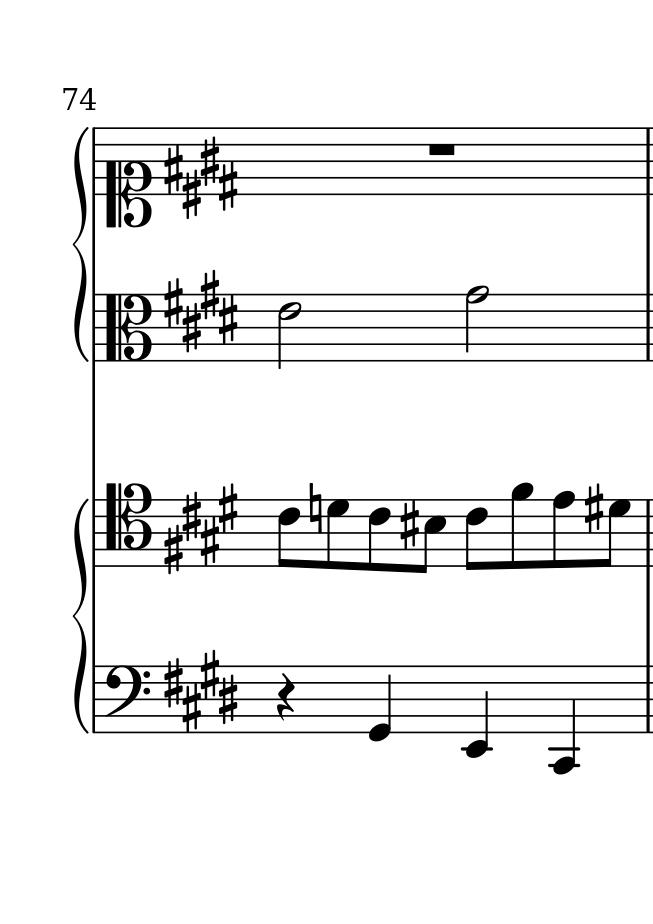2_6: (277, 294, 300, 370)
2_8: (464, 284, 489, 361)
4: (79, 86, 96, 113)
4_-2: (463, 664, 490, 759)
4_-4: (550, 662, 579, 773)
4_0: (368, 664, 394, 745)
7: (62, 84, 78, 112)
8_5: (416, 498, 448, 574)
8_6: (464, 497, 489, 573), (367, 497, 391, 575), (277, 498, 301, 570)
8_7: (599, 498, 631, 568), (325, 498, 350, 570)
8_8: (551, 490, 576, 571)
8_9: (510, 482, 534, 570)
Brace: (71, 496, 89, 735), (73, 124, 90, 362)
Cclef: (102, 292, 152, 363)
E_S: (159, 484, 241, 572), (160, 133, 240, 221), (161, 648, 241, 733), (165, 266, 239, 354)
Fclef: (103, 663, 150, 734)
Natural: (308, 484, 323, 536)
Rests1: (424, 140, 458, 157)
Rests4: (274, 672, 298, 725)
Sharp: (398, 498, 420, 551), (583, 482, 605, 534)
Single_barline: (639, 293, 653, 362), (88, 500, 102, 567), (89, 292, 102, 363), (88, 129, 102, 194), (640, 128, 653, 194), (90, 664, 102, 734), (641, 665, 653, 734), (641, 500, 653, 567)
Soprano_Cclef: (104, 129, 152, 229)
Tensor_Cclef: (105, 483, 152, 566)
